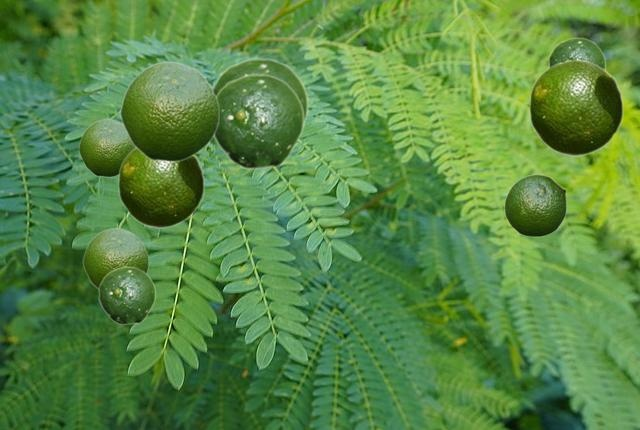calamansi: (119, 60, 219, 161), (528, 59, 623, 155), (212, 73, 304, 169), (117, 148, 204, 227), (211, 57, 308, 124), (82, 227, 148, 289), (504, 174, 566, 236), (98, 266, 155, 324), (78, 118, 132, 176), (548, 37, 605, 67)
